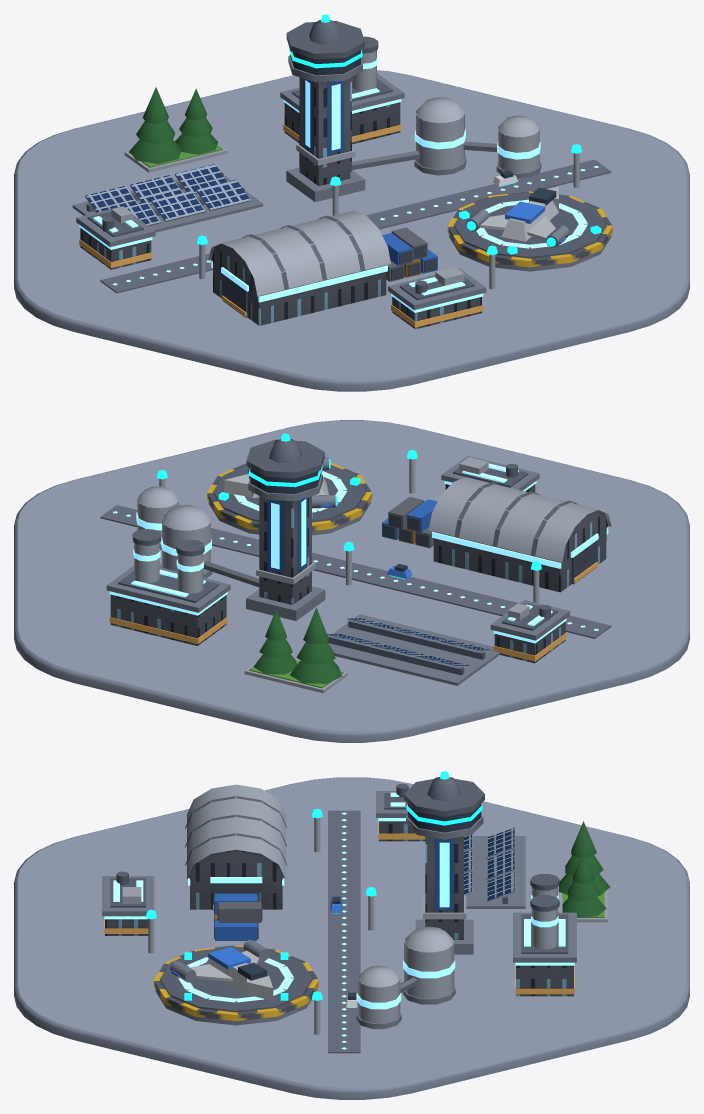
The model's file is district_scifi_c_blue.glb.
The picture shows the model from 3 angles, top to bottom: view 1: azimuth 30°, elevation 25°; view 2: azimuth 150°, elevation 25°; view 3: azimuth 270°, elevation 25°; orthographic projection.
Parts seen in each view (by area): view 1: district_scifi_c_blue; view 2: district_scifi_c_blue; view 3: district_scifi_c_blue.
Part boxes in pixels (bbox=[...]): district_scifi_c_blue: bbox=[14, 14, 689, 391]; district_scifi_c_blue: bbox=[14, 420, 689, 742]; district_scifi_c_blue: bbox=[14, 771, 689, 1099].
Size of the model in its own units: 1.92 by 0.5199 by 1.75.
3 materials, 1 textured.
